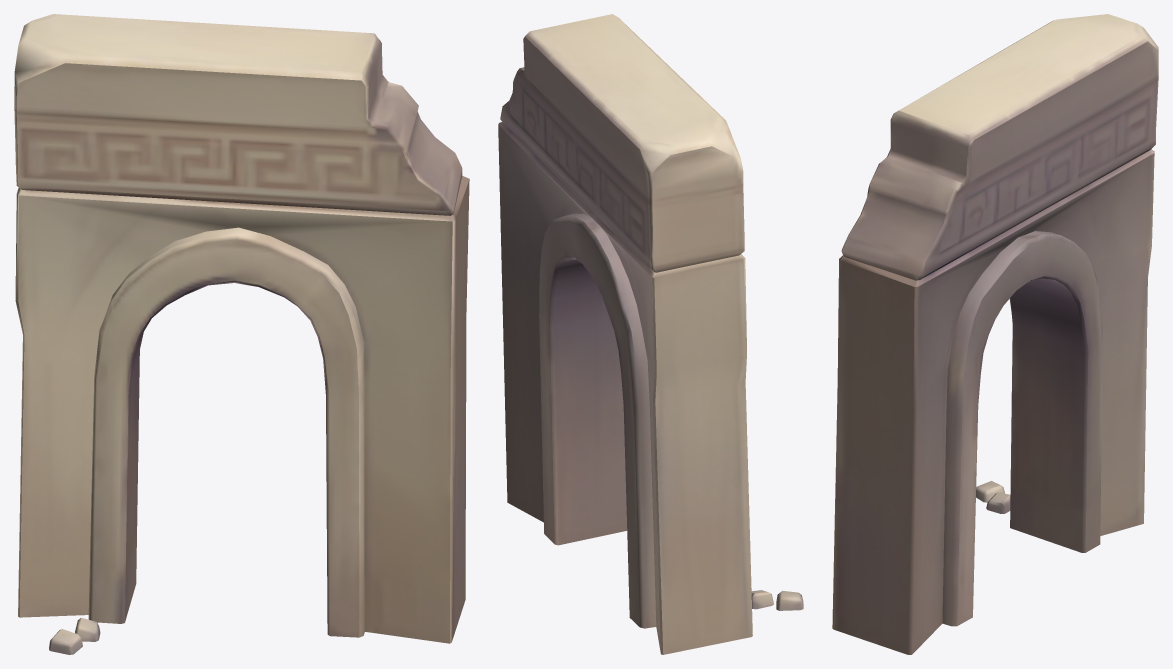
The model's file is SM_RuinDoorway_01.fbx.
The picture shows the model from 3 angles, left to right: view 1: azimuth 30°, elevation 25°; view 2: azimuth 150°, elevation 25°; view 3: azimuth 270°, elevation 25°; orthographic projection. The views are drawn at different scales.
Visible parts, largest first — view 1: SM_RuinDoorway_01; view 2: SM_RuinDoorway_01; view 3: SM_RuinDoorway_01.
Boxes of the visible parts, <box> form: SM_RuinDoorway_01: <box>14,14,469,654</box>; SM_RuinDoorway_01: <box>498,14,803,654</box>; SM_RuinDoorway_01: <box>832,14,1158,654</box>.
Size of the model in its own units: 52.27 by 74.22 by 43.89.
Materials: 1 (1 with a texture image).
